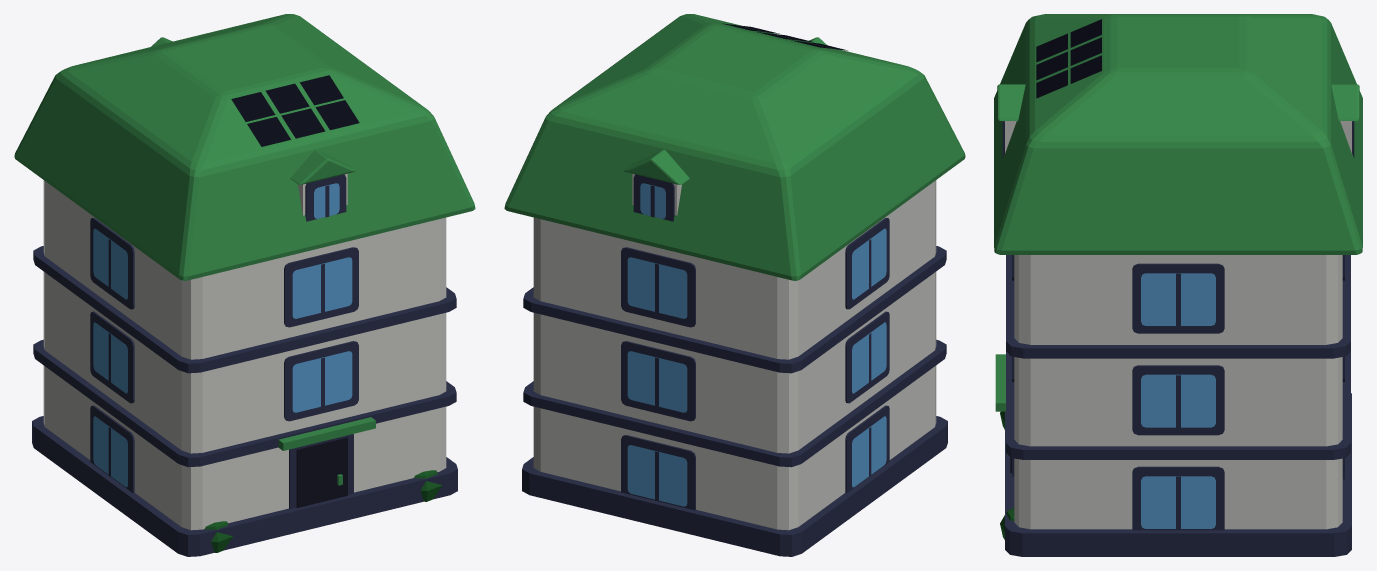
The model's file is house-1x1-3f-mansard-a-solar.glb.
3 renders of one model, left to right at view 1: azimuth 30°, elevation 25°; view 2: azimuth 150°, elevation 25°; view 3: azimuth 270°, elevation 25°, orthographic. The views are drawn at different scales.
Visible parts, largest first — view 1: house-1x1-3f-mansard-a-solar; view 2: house-1x1-3f-mansard-a-solar; view 3: house-1x1-3f-mansard-a-solar.
Part boxes in pixels (box(x1,y1,x2,y2)): house-1x1-3f-mansard-a-solar: box(14, 14, 475, 556); house-1x1-3f-mansard-a-solar: box(504, 14, 965, 556); house-1x1-3f-mansard-a-solar: box(994, 14, 1362, 556).
Size of the model in its own units: 0.9876 by 1.3 by 0.9876.
1 material, 1 textured.
